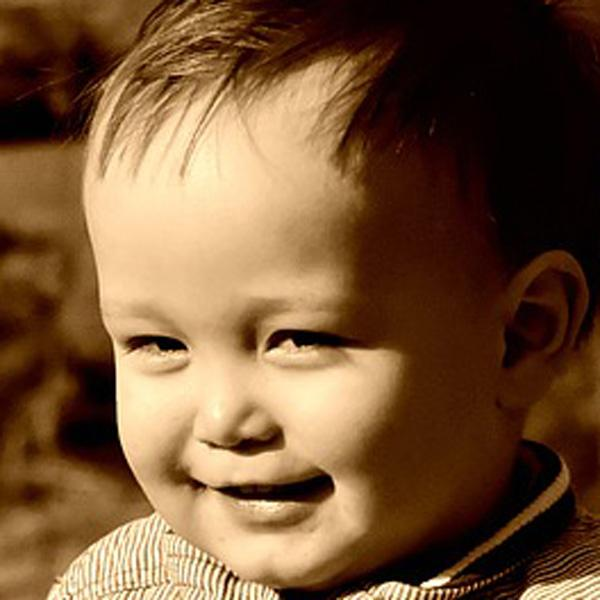Eyes: (252, 316, 364, 369), (112, 318, 200, 371)
